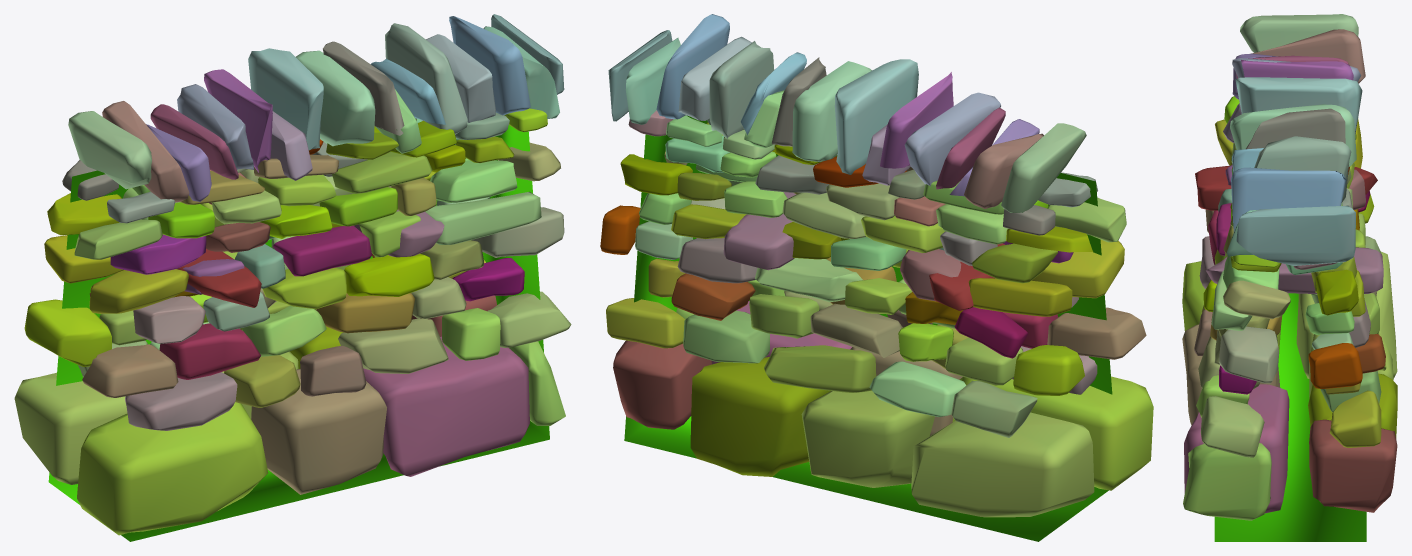
The model's file is SM_Wall_E.glb.
The picture shows the model from 3 angles, left to right: view 1: azimuth 30°, elevation 25°; view 2: azimuth 150°, elevation 25°; view 3: azimuth 270°, elevation 25°; orthographic projection. The views are drawn at different scales.
Parts seen in each view (by area): view 1: SM_Wall_E; view 2: SM_Wall_E; view 3: SM_Wall_E.
Boxes of the visible parts, bbox=[...] form: SM_Wall_E: bbox=[14, 14, 571, 541]; SM_Wall_E: bbox=[600, 14, 1153, 541]; SM_Wall_E: bbox=[1182, 14, 1397, 541].
Bounding box in the file's own units: 2.24 × 1.75 × 0.9358.
